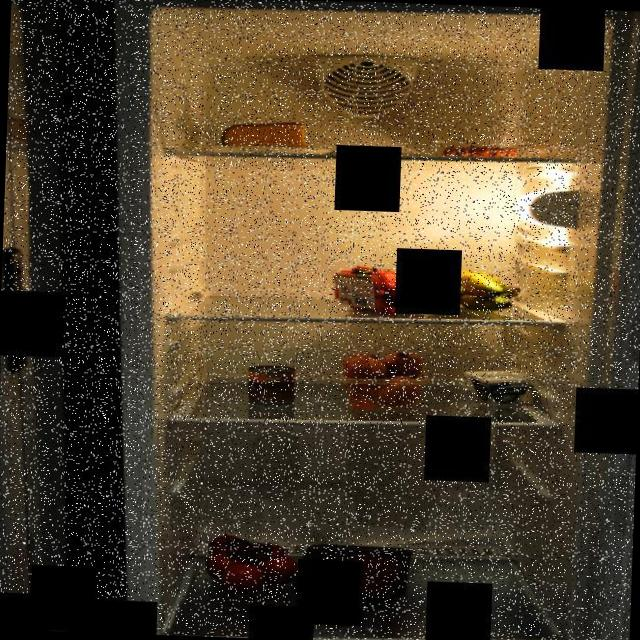Carne vacuno: (318, 550, 398, 596)
Cebolla: (339, 348, 424, 409)
Gambas/Langostinos: (436, 134, 534, 162)
Plátano: (426, 263, 524, 310)
Queso: (461, 367, 535, 411), (211, 118, 310, 150)
Tomate: (198, 526, 305, 592)
corn: (243, 362, 303, 408)
strawberries: (326, 259, 441, 319)
